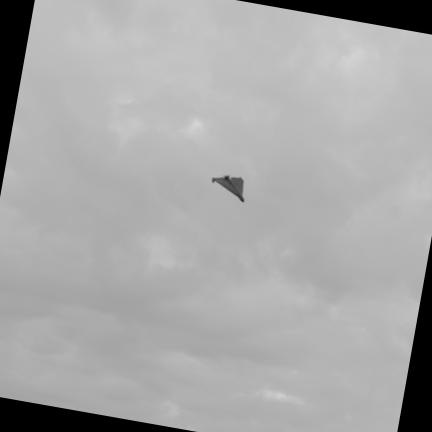Shahed: (212, 175, 243, 202)
